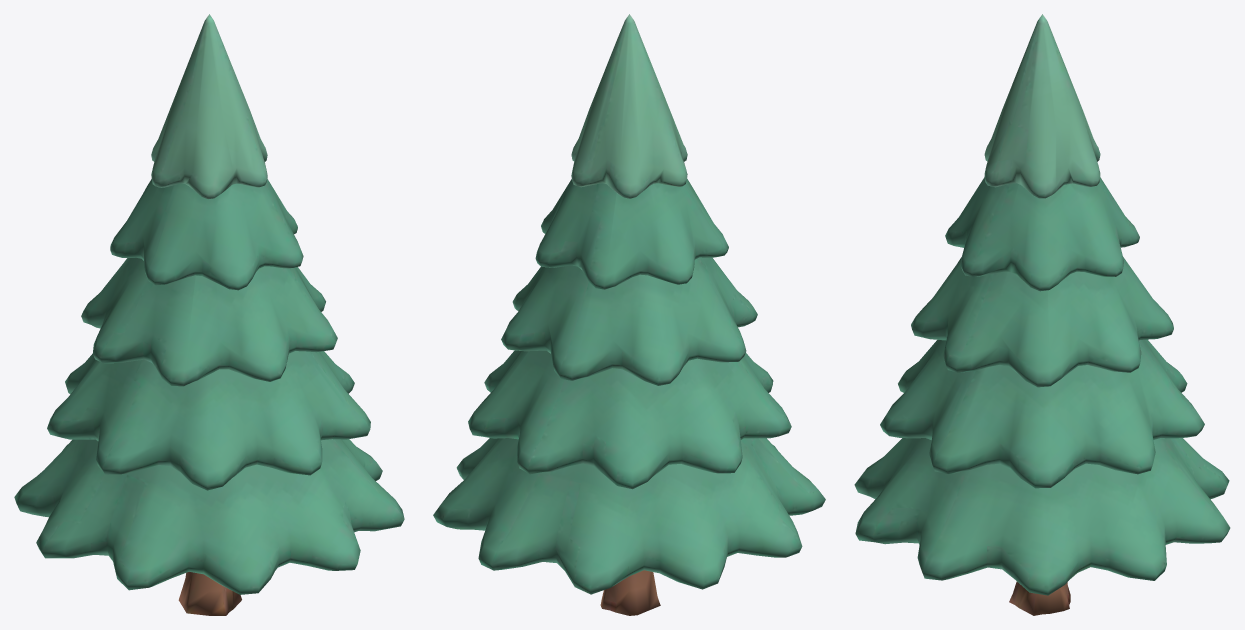
Rendered from pine.glb.
3 renders of one model, left to right at view 1: azimuth 30°, elevation 25°; view 2: azimuth 150°, elevation 25°; view 3: azimuth 270°, elevation 25°, orthographic.
Parts seen in each view (by area): view 1: lod0; view 2: lod0; view 3: lod0.
Boxes of the visible parts, x1,y1,x2,y2 form: lod0: (14, 14, 404, 615); lod0: (433, 14, 825, 615); lod0: (854, 14, 1230, 615).
Size of what is drawn, in the model's own units: 3.45 by 5.7 by 3.3.
1 material, 1 textured.
